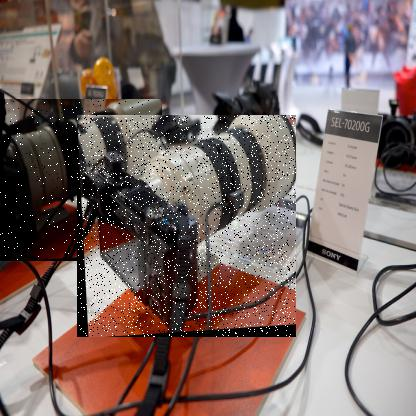Camera: (78, 116, 298, 339), (1, 100, 164, 263)
